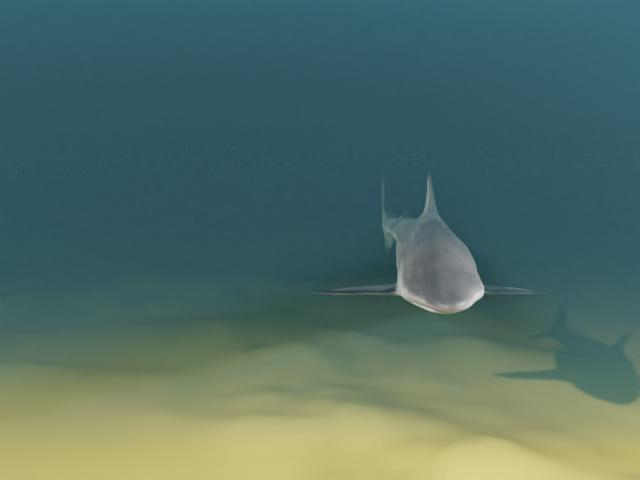Carribean Shark.001: (310, 159, 547, 313)
